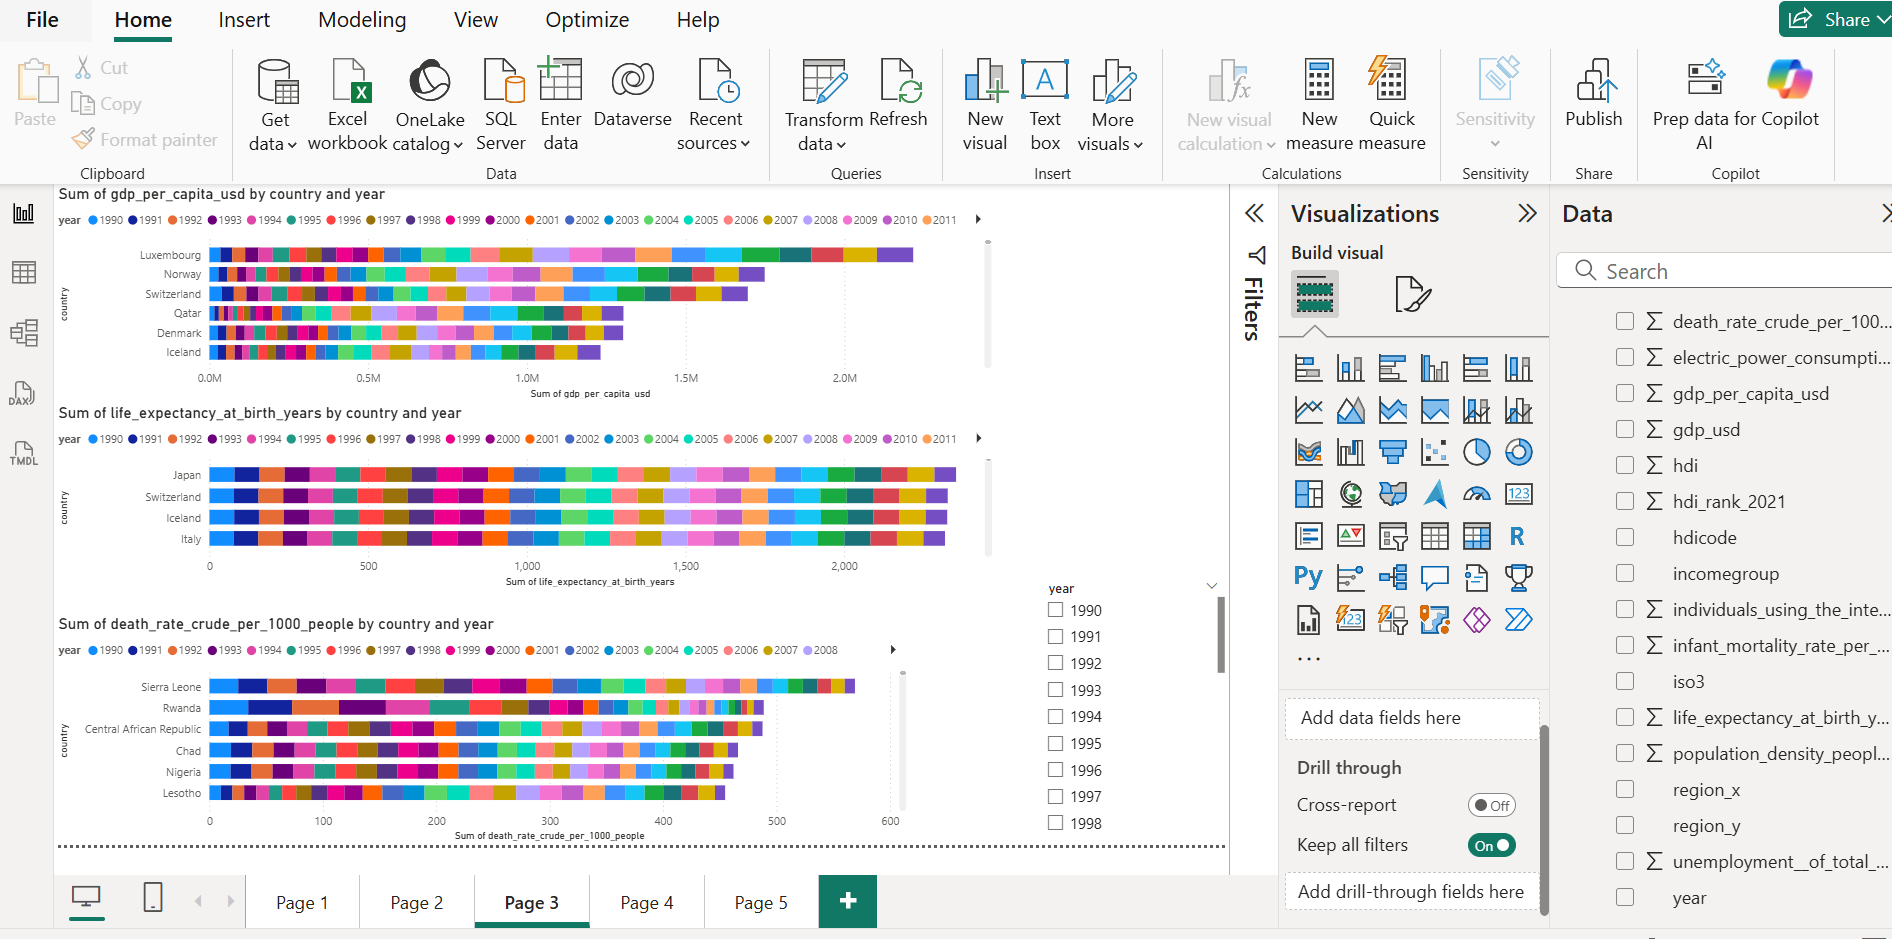

Layout of this report page (visuals, bound fields, positions):
{"tool":"powerbi","page":{"name":"Page 3","canvas":[1280,720],"ordinal":2},"visuals":[{"type":"barChart","fields":{"Category":["data_cleaned_with_clusters.country"],"Series":["data_cleaned_with_clusters.year"],"Y":["Sum(data_cleaned_with_clusters.gdp_per_capita_usd)"]},"box":[0,0,1026.2,238.6],"z":0},{"type":"barChart","fields":{"Category":["data_cleaned_with_clusters.country"],"Y":["Sum(data_cleaned_with_clusters.death_rate_crude_per_1000_people)"],"Series":["data_cleaned_with_clusters.year"]},"box":[0,468.3,933.3,251.7],"z":1000},{"type":"barChart","fields":{"Category":["data_cleaned_with_clusters.country"],"Y":["Sum(data_cleaned_with_clusters.life_expectancy_at_birth_years)"],"Series":["data_cleaned_with_clusters.year"]},"box":[0,238.3,1026.7,205],"z":2000},{"type":"slicer","fields":{"Values":["data_cleaned_with_clusters.year"]},"box":[1070,426.7,210,293.3],"z":3000}]}

Visuals, with their boxes on the page's 1280x720 design canvas (x1, y1, x2, y2). These are canvas units, not pixel positions in the 1892x939 screenshot, which may show the page scaled, cropped or inside an application window:
barChart - data_cleaned_with_clusters.country x data_cleaned_with_clusters.year: <bbox>0, 0, 1026, 239</bbox>
barChart - data_cleaned_with_clusters.country x Sum(data_cleaned_with_clusters.death_rate_crude_per_1000_people): <bbox>0, 468, 933, 720</bbox>
barChart - data_cleaned_with_clusters.country x Sum(data_cleaned_with_clusters.life_expectancy_at_birth_years): <bbox>0, 238, 1027, 443</bbox>
slicer - data_cleaned_with_clusters.year: <bbox>1070, 427, 1280, 720</bbox>
